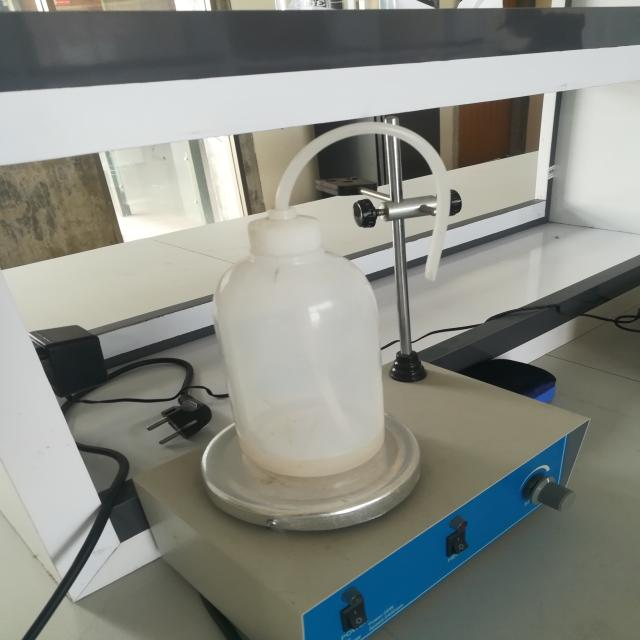Wash_Bottle: (159, 100, 528, 512)
